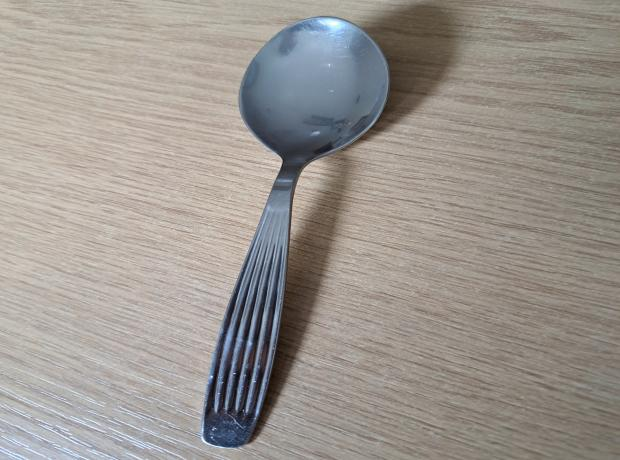metal: (198, 16, 395, 447)
